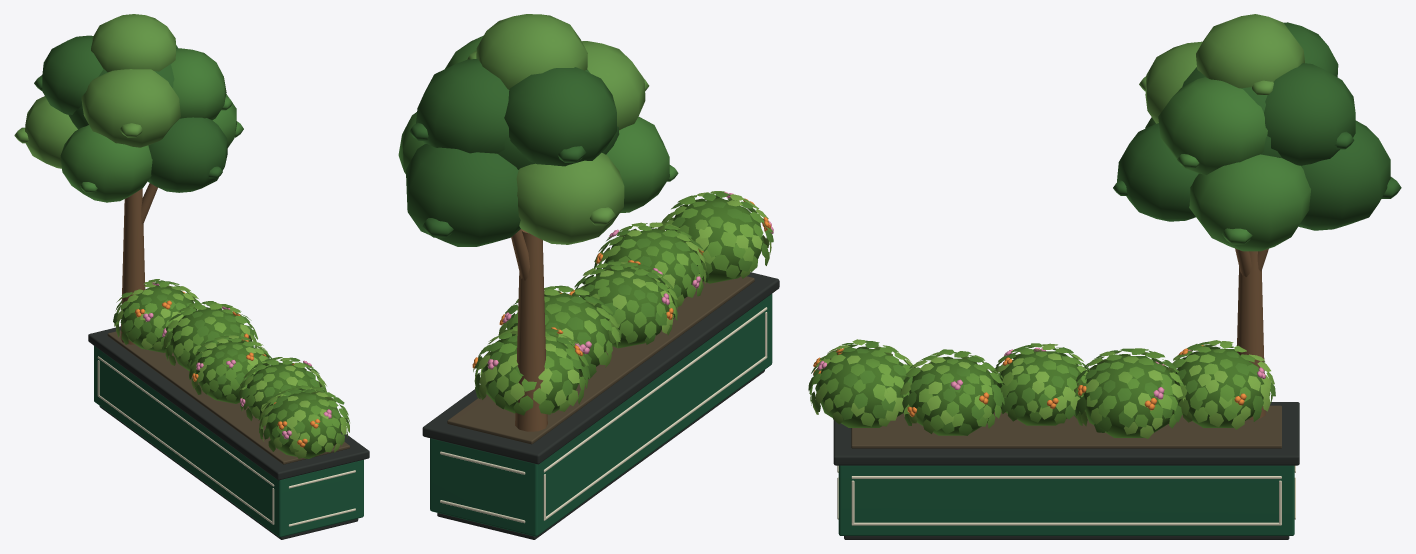
The model's file is shop_planter.glb.
3 renders of one model, left to right at view 1: azimuth 30°, elevation 25°; view 2: azimuth 150°, elevation 25°; view 3: azimuth 270°, elevation 25°, orthographic. The views are drawn at different scales.
Visible parts, largest first — view 1: Box, Crown11, Rim, Crown03, Crown04, Crown20, Soil, Crown10, Crown12, Crown02, Trunk, Shrub4Core (+9 smaller); view 2: Box, Crown01, Rim, Crown10, Crown02, Crown13, Soil, Crown20, Trunk, Crown03, Crown11, Shrub4Core (+10 smaller); view 3: Box, Soil, Rim, Crown00, Crown12, Crown13, Crown01, Crown20, Crown04, Shrub1Core, Shrub4Core, Crown11 (+8 smaller).
Boxes of the visible parts, bbox=[...] form: Box: bbox=[94, 346, 363, 537]; Crown11: bbox=[81, 69, 180, 147]; Rim: bbox=[88, 326, 369, 480]; Crown03: bbox=[60, 125, 152, 202]; Crown04: bbox=[148, 117, 227, 192]; Crown20: bbox=[91, 14, 175, 72]; Soil: bbox=[107, 330, 350, 464]; Crown10: bbox=[42, 35, 103, 114]; Crown12: bbox=[171, 48, 226, 120]; Crown02: bbox=[25, 96, 77, 168]; Trunk: bbox=[120, 188, 145, 344]; Shrub4Core: bbox=[265, 391, 341, 458]; Box: bbox=[430, 294, 772, 536]; Crown01: bbox=[406, 144, 520, 246]; Rim: bbox=[422, 272, 779, 464]; Crown10: bbox=[504, 67, 616, 166]; Crown02: bbox=[516, 152, 624, 244]; Crown13: bbox=[416, 58, 509, 153]; Soil: bbox=[447, 276, 754, 444]; Crown20: bbox=[476, 14, 587, 89]; Trunk: bbox=[515, 229, 547, 431]; Crown03: bbox=[606, 116, 669, 212]; Crown11: bbox=[582, 41, 645, 130]; Shrub4Core: bbox=[671, 198, 764, 283]; Box: bbox=[838, 465, 1294, 535]; Soil: bbox=[851, 405, 1281, 448]; Rim: bbox=[833, 402, 1299, 465]; Crown00: bbox=[1189, 154, 1310, 251]; Crown12: bbox=[1158, 77, 1267, 174]; Crown13: bbox=[1264, 63, 1355, 165]; Crown01: bbox=[1298, 120, 1390, 230]; Crown20: bbox=[1196, 14, 1304, 88]; Crown04: bbox=[1117, 123, 1198, 221]; Shrub1Core: bbox=[1080, 356, 1178, 437]; Shrub4Core: bbox=[815, 349, 907, 427]; Crown11: bbox=[1145, 41, 1202, 123].
Bounding box in the file's own units: 1.27 × 2.5 × 2.77.
